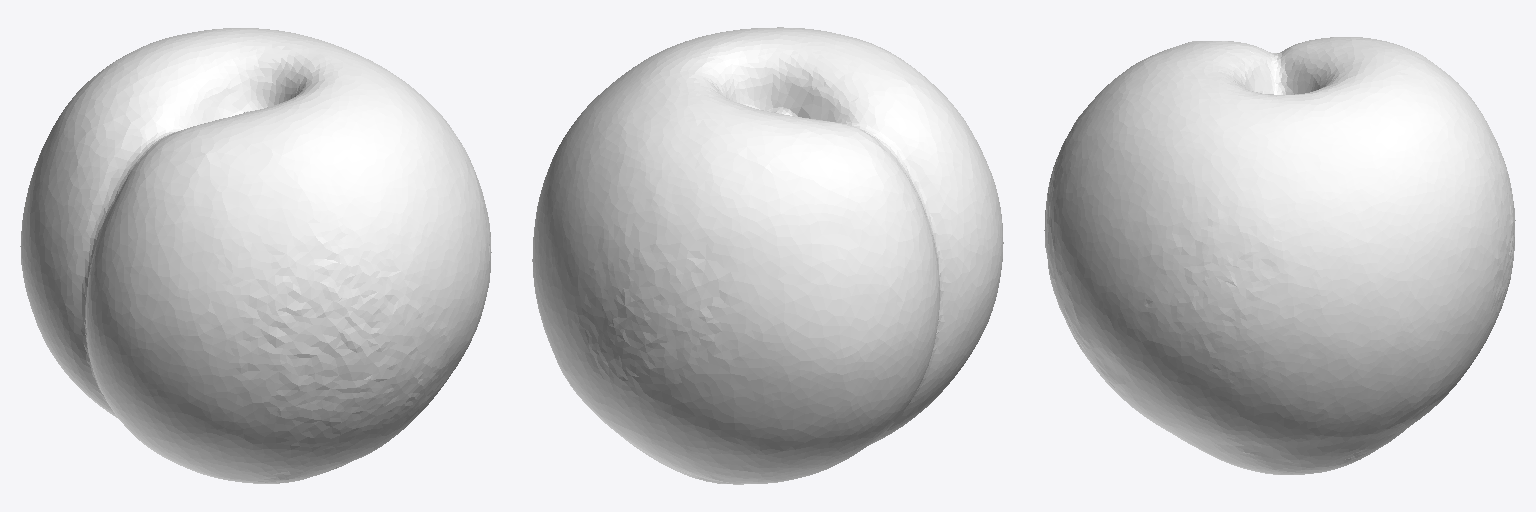
URDF robot description (peach):
<robot name="peach">
    <link name="base_link">
        <visual>
            <origin xyz="0.0 -0.0 0.0" rpy="0.0 0.0 0.0" />
            <geometry>
                <mesh filename="peach/textured.obj" scale="1 1 1" />
            </geometry>
            <material name="texture">
                <color rgba="1.0 1.0 1.0 1.0" />
            </material>
        </visual>
        <collision>
            <origin xyz="0.0 -0.0 0.0" rpy="0.0 0.0 0.0" />
            <geometry>
                <mesh filename="peach/textured_coacd_0.stl" scale="1 1 1" />
            </geometry>
        </collision>
        <collision>
            <origin xyz="0.0 -0.0 0.0" rpy="0.0 0.0 0.0" />
            <geometry>
                <mesh filename="peach/textured_coacd_1.stl" scale="1 1 1" />
            </geometry>
        </collision>
        <collision>
            <origin xyz="0.0 -0.0 0.0" rpy="0.0 0.0 0.0" />
            <geometry>
                <mesh filename="peach/textured_coacd_2.stl" scale="1 1 1" />
            </geometry>
        </collision>
        <collision>
            <origin xyz="0.0 -0.0 0.0" rpy="0.0 0.0 0.0" />
            <geometry>
                <mesh filename="peach/textured_coacd_3.stl" scale="1 1 1" />
            </geometry>
        </collision>
        <collision>
            <origin xyz="0.0 -0.0 0.0" rpy="0.0 0.0 0.0" />
            <geometry>
                <mesh filename="peach/textured_coacd_4.stl" scale="1 1 1" />
            </geometry>
        </collision>
        <inertial>
            <mass value="0.033" />
            <inertia ixx="1e-3" ixy="0.0" ixz="0.0" iyy="1e-3" iyz="0.0" izz="1e-3" />
        </inertial>
    </link>
</robot>

--- Facts derived from the render (not from the file) ---
3 views of the same robot in one strip: view 1: azimuth 30°, elevation 25°; view 2: azimuth 150°, elevation 25°; view 3: azimuth 270°, elevation 25° (orthographic).
Model peach with 1 links and 0 joints (none), rooted at base_link, posed all joints at 0.
Links seen in each view (by area): view 1: base_link; view 2: base_link; view 3: base_link.
Boxes of the visible links, x1,y1,x2,y2 form: base_link: (20,28,491,483); base_link: (532,27,1003,484); base_link: (1044,37,1515,474).
Size in the robot's own frame: 0.0591 by 0.0637 by 0.0574 metres.
1 mesh visuals loaded from 1 distinct referenced files (1 OBJ).